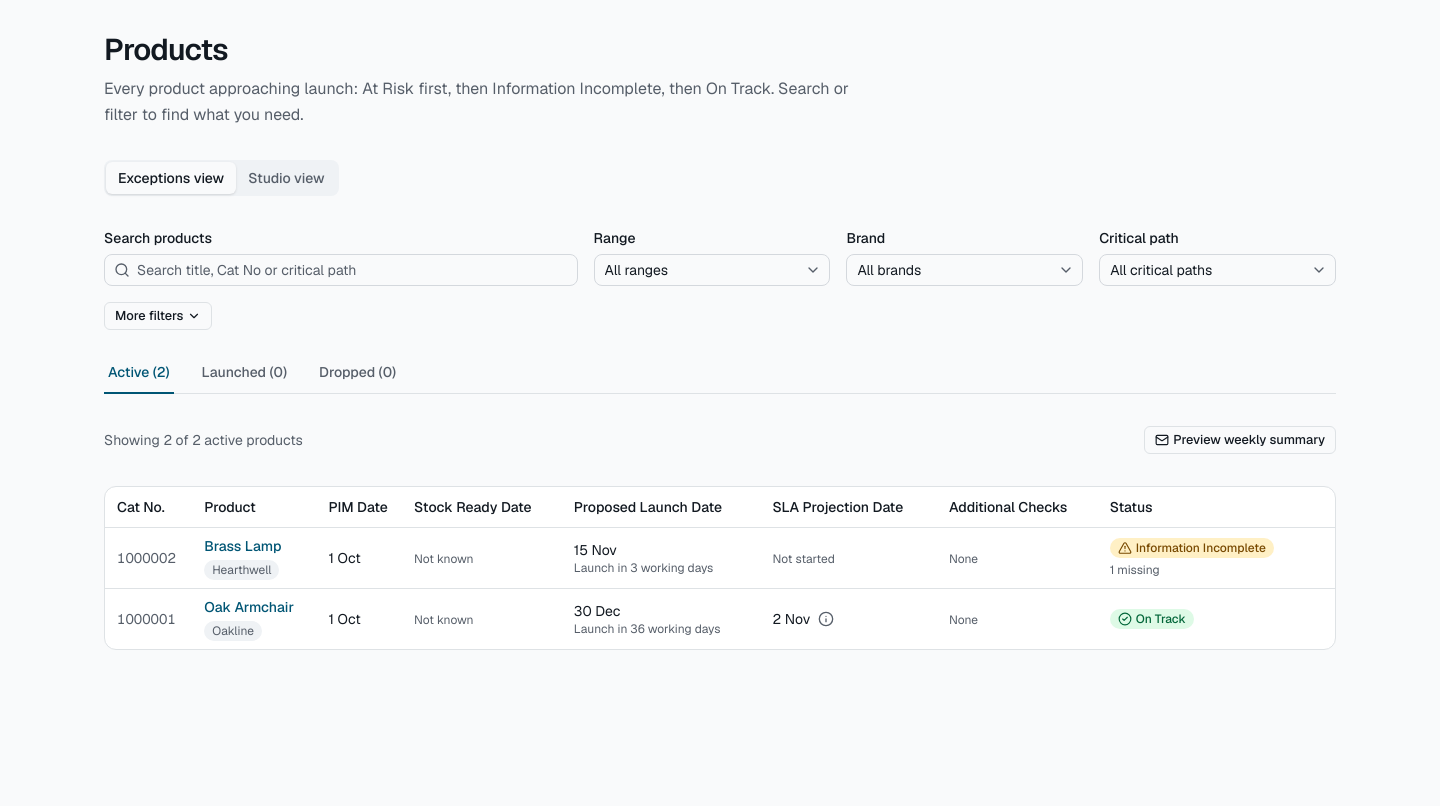
Test: ProductsView › filters as you type and updates the count
In the search field labelled "Search products": (341, 270) [104,254,578,286], type "lamp"
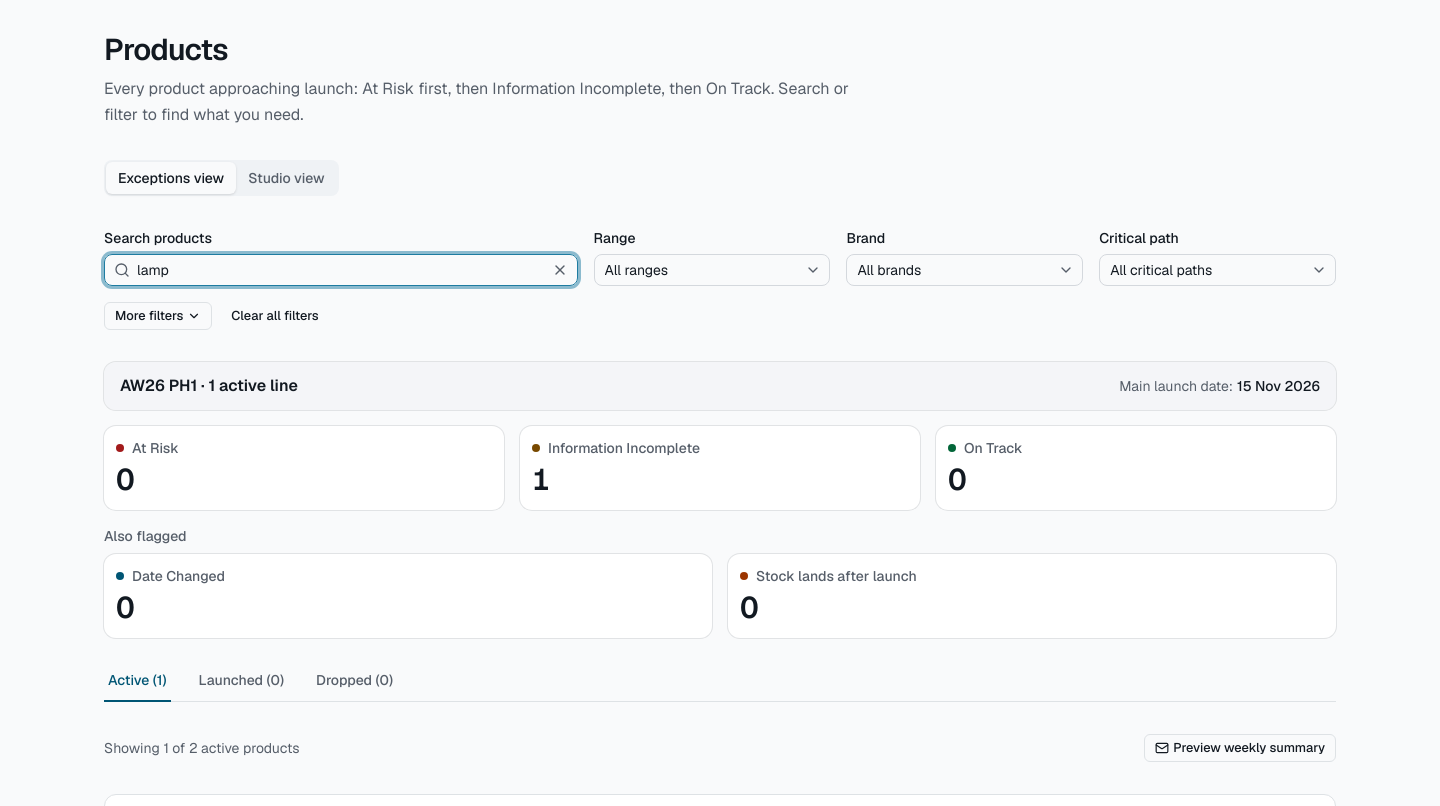
Expected: the text "Showing 1 of 2 active products" is shown, [104,738,300,758]
